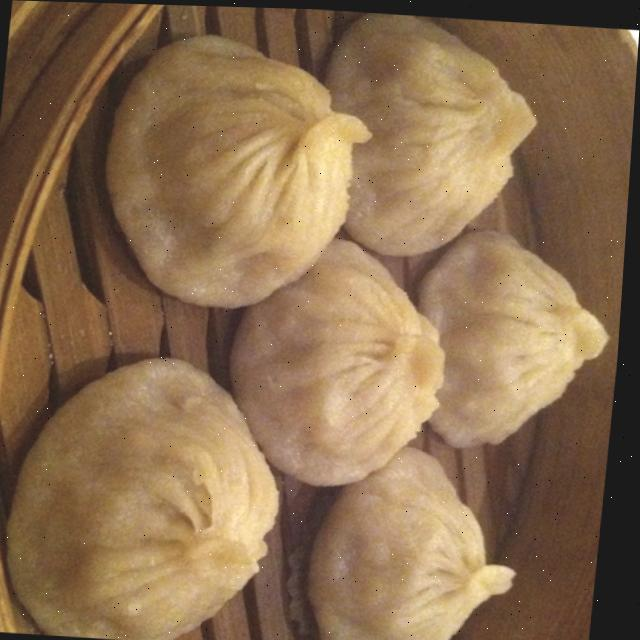带馅早点: (0, 1, 640, 640)
